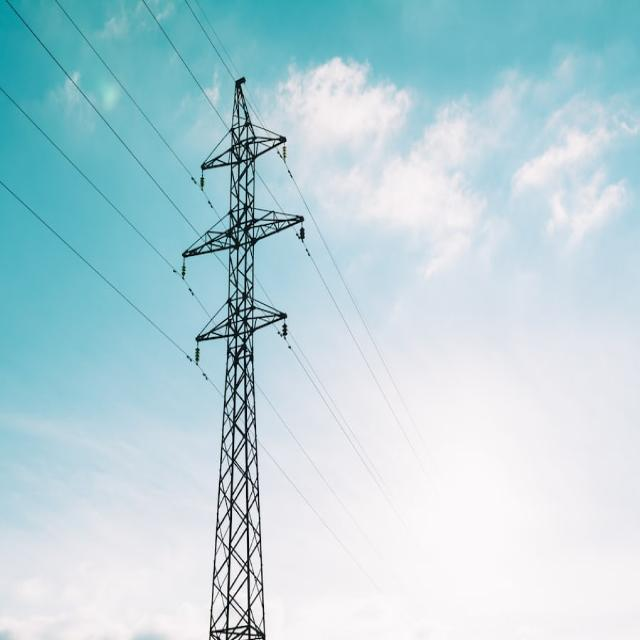transmission tower: (122, 57, 424, 640)
